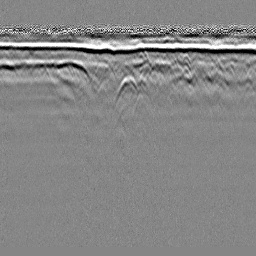cavity: (114, 73, 138, 108)
